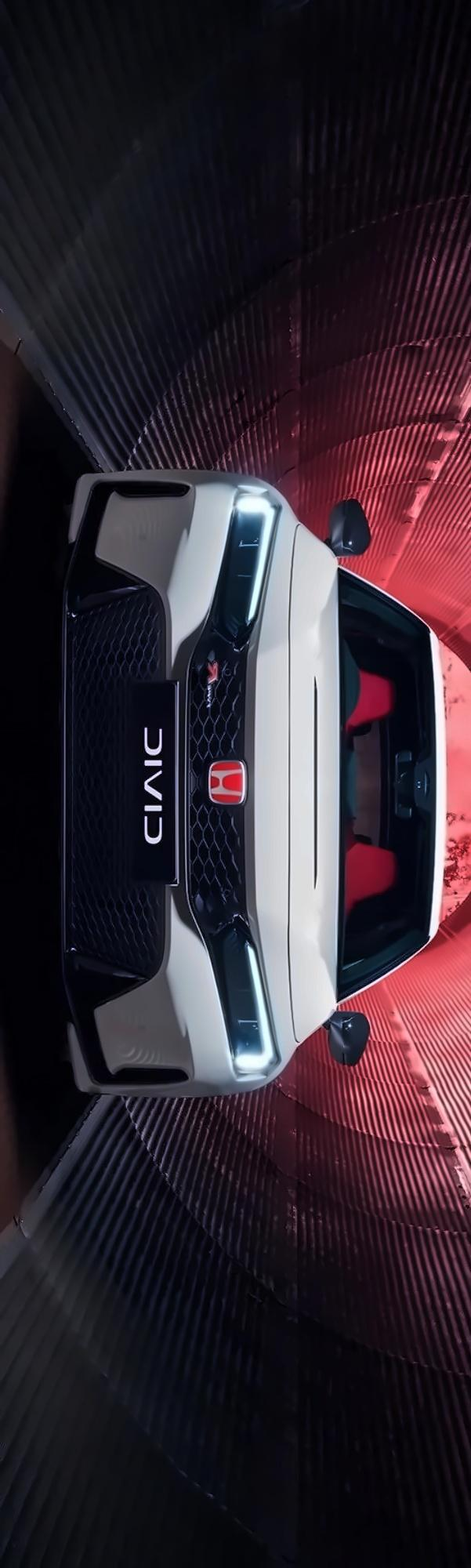Car hood: (248, 505, 339, 1069)
Front bumper: (45, 463, 242, 1106)
Headlight - -L-: (214, 949, 284, 1081)
Headlight - -R-: (207, 479, 290, 649)
Side mirror - -L-: (319, 993, 374, 1081)
Side mirror - -R-: (316, 497, 381, 567)
